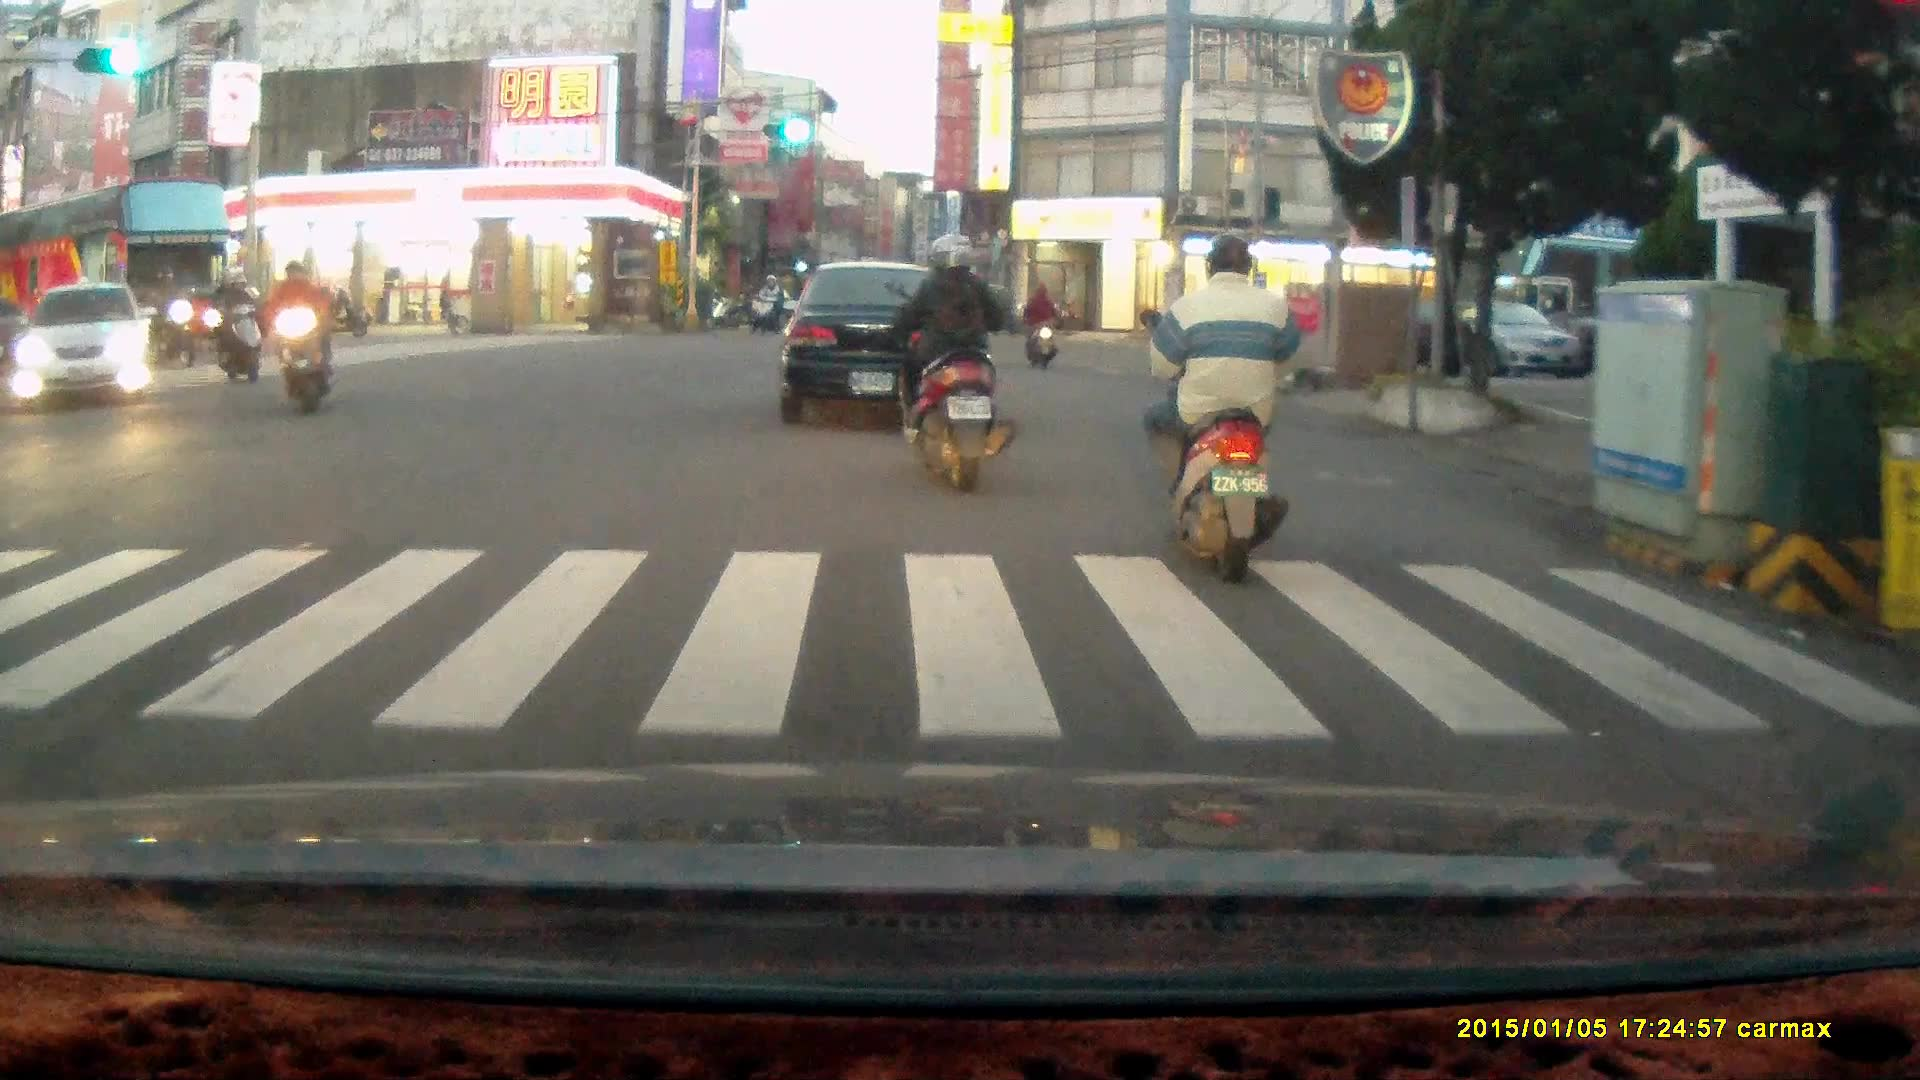rider: (1137, 235, 1295, 584), (881, 227, 1021, 495), (263, 258, 336, 422), (208, 262, 265, 385), (139, 263, 200, 369), (1022, 276, 1060, 367), (746, 280, 780, 344)
vehicle: (1, 179, 233, 354), (13, 284, 152, 410), (1397, 295, 1585, 381)
